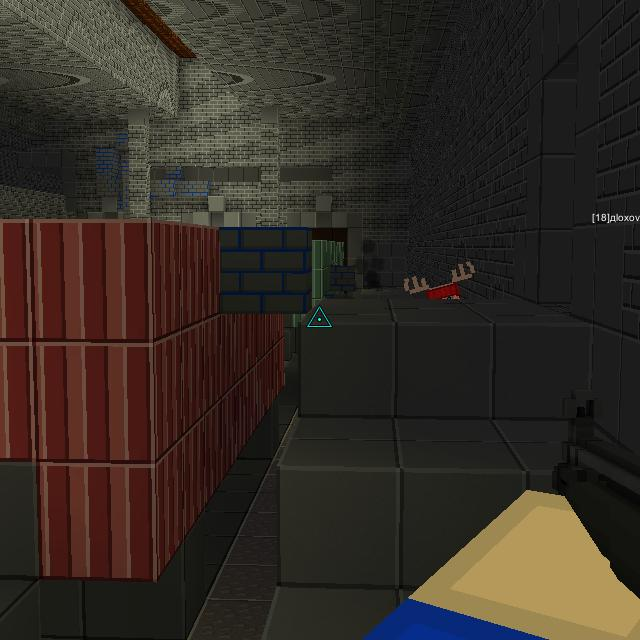enemy: (401, 259, 477, 302)
